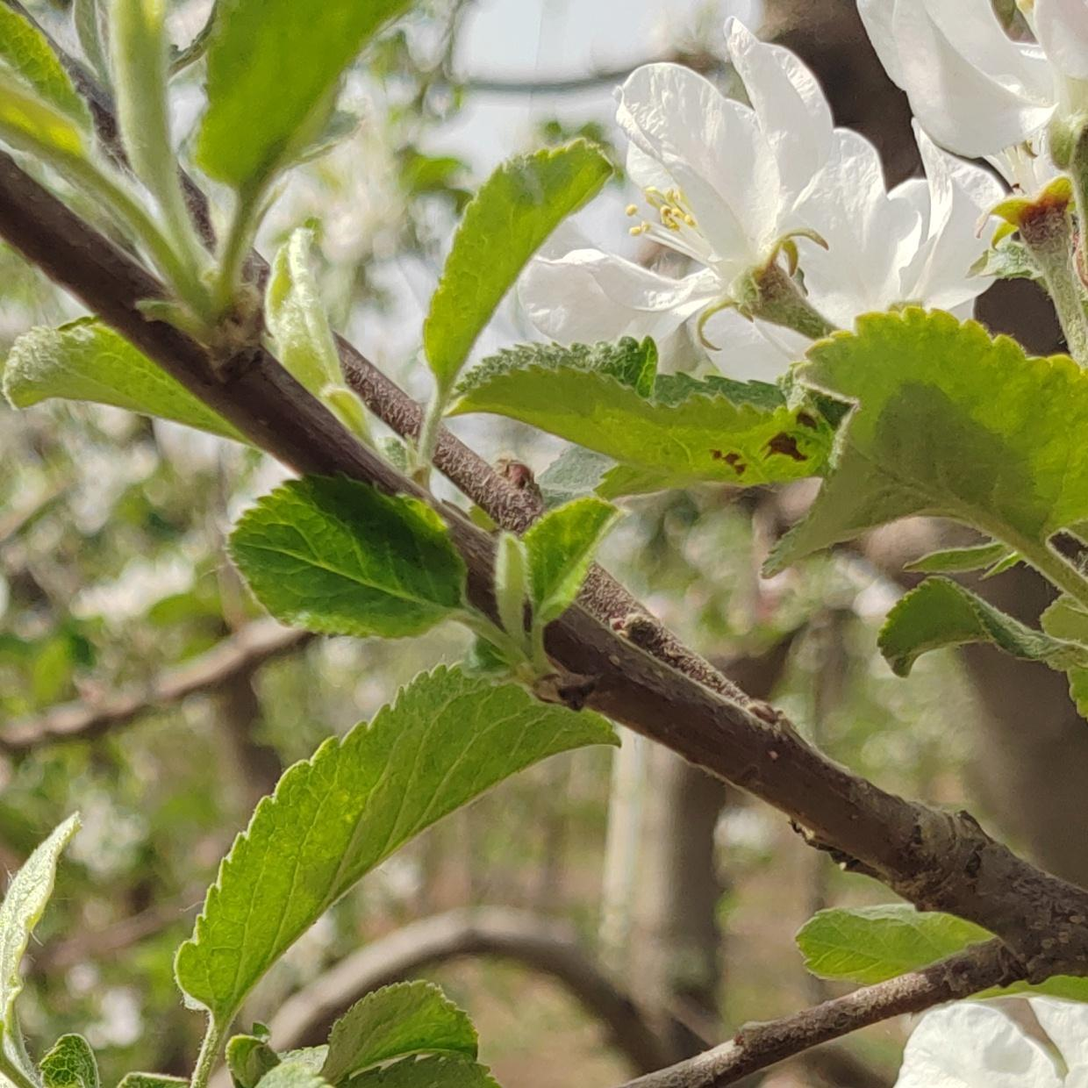apple_flower: (897, 996, 1088, 1088)
